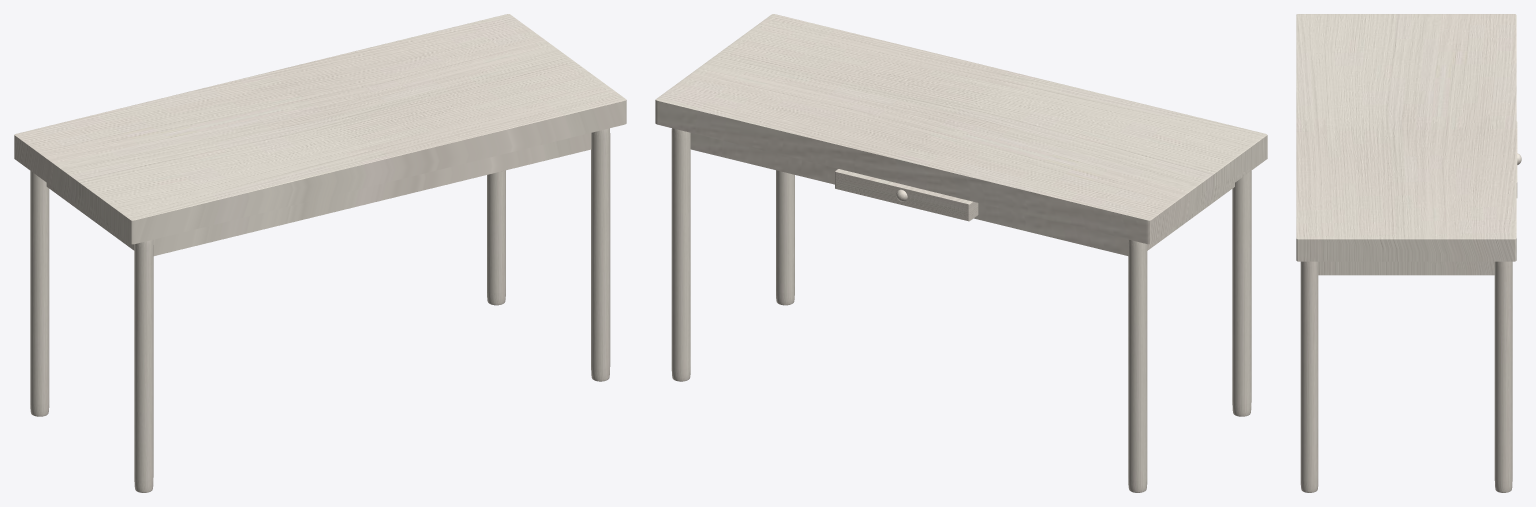
The model's file is skrivbord.fbx.
The picture shows the model from 3 angles, left to right: view 1: azimuth 30°, elevation 25°; view 2: azimuth 150°, elevation 25°; view 3: azimuth 270°, elevation 25°; orthographic projection. The views are drawn at different scales.
Parts seen in each view (by area): view 1: Cube, Cube.002, Cylinder, Cylinder.003, Cylinder.002, Cylinder.001; view 2: Cube, Cube.002, Cylinder.001, Cylinder.002, Cylinder, Cube.001, Cylinder.003; view 3: Cube, Cylinder.003, Cylinder.001, Cube.002.
Part boxes in pixels (<box>): Cube: <box>14,14,626,244</box>; Cube.002: <box>46,133,591,255</box>; Cylinder: <box>134,240,153,492</box>; Cylinder.003: <box>591,128,610,381</box>; Cylinder.002: <box>30,171,49,416</box>; Cylinder.001: <box>487,170,505,305</box>; Cube: <box>655,14,1267,244</box>; Cube.002: <box>690,133,1234,255</box>; Cylinder.001: <box>671,128,690,381</box>; Cylinder.002: <box>1128,239,1147,492</box>; Cylinder: <box>1232,171,1251,416</box>; Cube.001: <box>835,169,978,221</box>; Cylinder.003: <box>776,170,794,305</box>; Cube: <box>1296,14,1516,261</box>; Cylinder.003: <box>1300,261,1318,492</box>; Cylinder.001: <box>1494,261,1512,492</box>; Cube.002: <box>1318,261,1494,275</box>.
Bounding box in the file's own units: 150 × 80.51 × 63.43.
